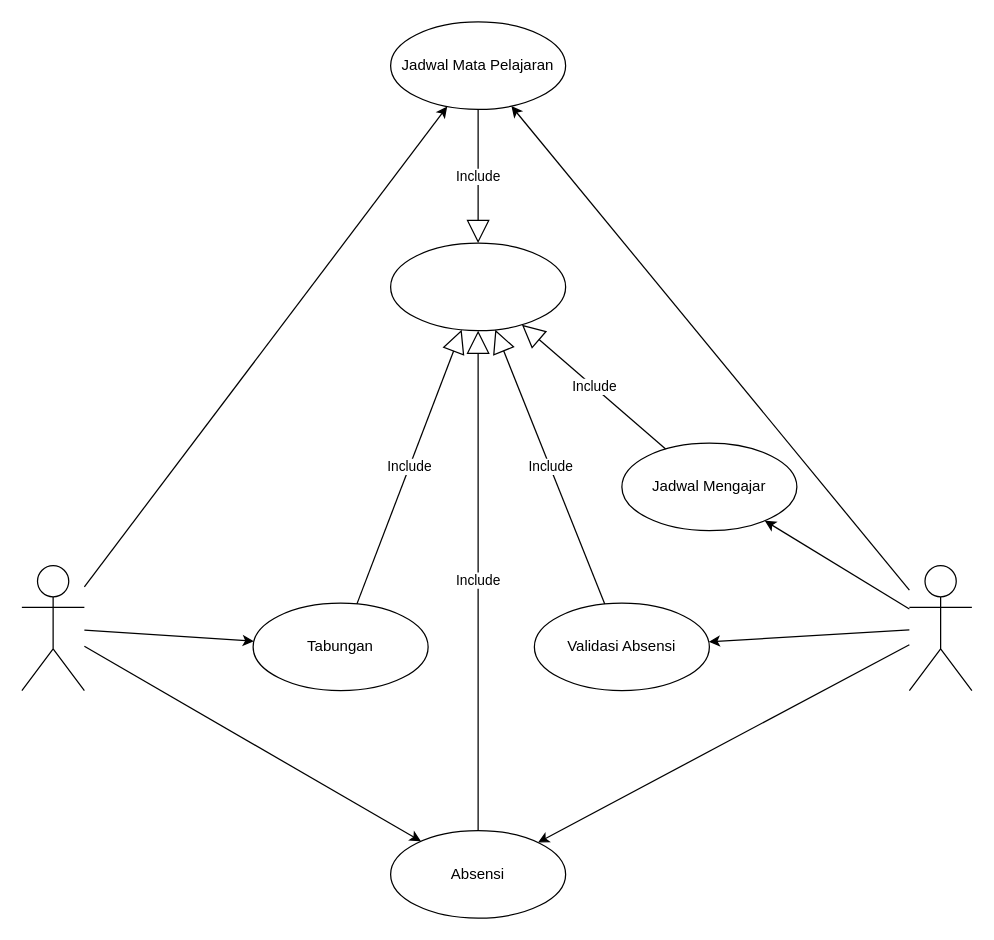
This 994x940 diagram has some shape labels left out. The box of each missing label's shape, as (x1, y1, x2, y2) in pixels:
Guru: (908, 564, 972, 691)
Login: (389, 242, 566, 331)
Siswa: (21, 564, 84, 691)
